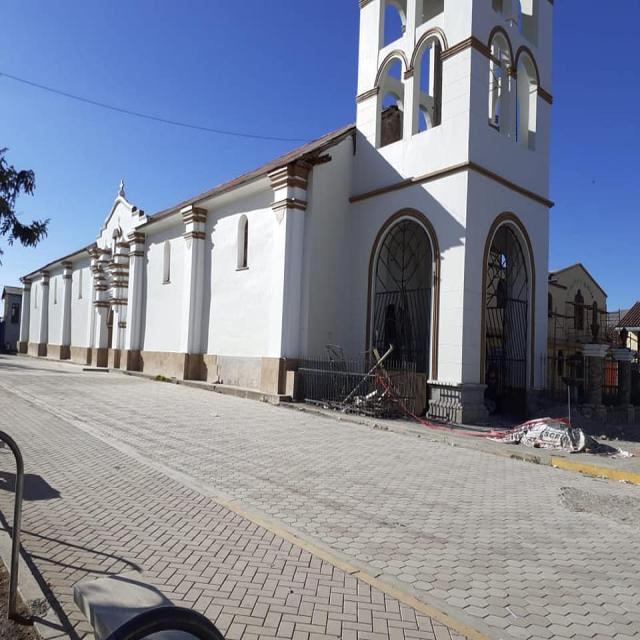CAMPANARIO: (356, 0, 562, 202)
colonial-architecture-: (0, 0, 571, 444)
